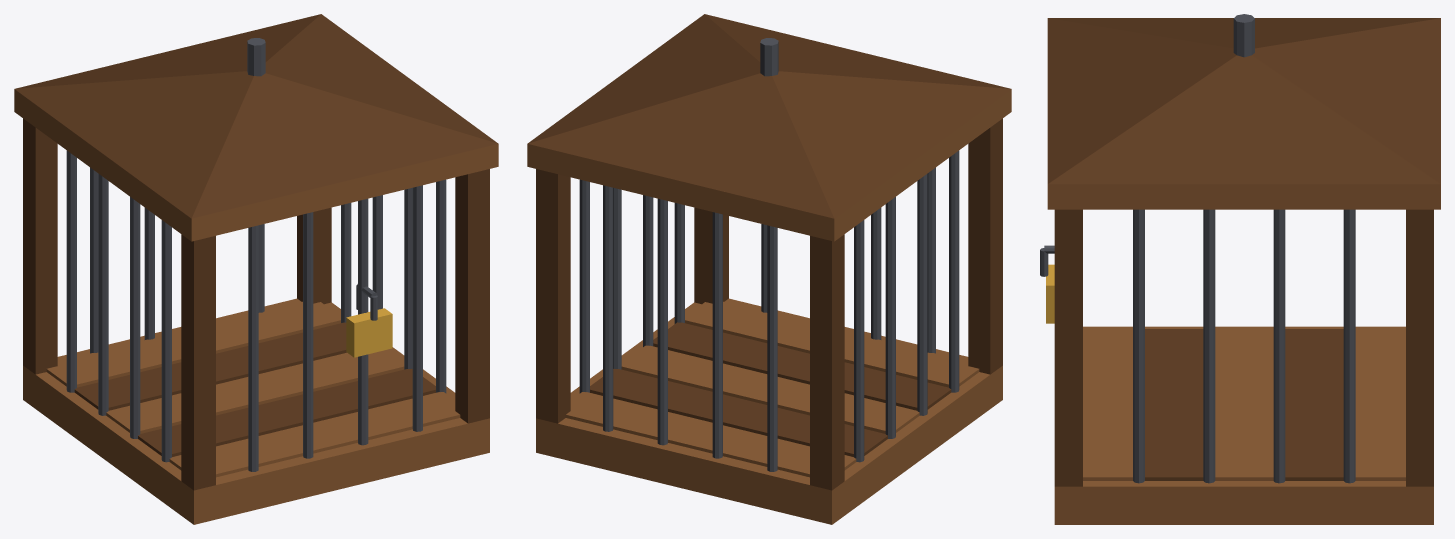
Rendered from cage.glb.
3 renders of one model, left to right at view 1: azimuth 30°, elevation 25°; view 2: azimuth 150°, elevation 25°; view 3: azimuth 270°, elevation 25°, orthographic. The views are drawn at different scales.
Visible parts, largest first — view 1: cage_lid, cage_base, cage_post_3, cage_post_2, cage_post_0, cage_bar_10, cage_bar_11, cage_bar_8, cage_bar_15, cage_bar_12, cage_bar_14, cage_bar_13 (+10 smaller); view 2: cage_lid, cage_base, cage_post_0, cage_post_1, cage_post_3, cage_bar_2, cage_bar_0, cage_bar_1, cage_bar_3, cage_bar_12, cage_bar_15, cage_bar_13 (+9 smaller); view 3: cage_lid, cage_base, cage_post_2, cage_post_1, cage_bar_4, cage_bar_6, cage_bar_5, cage_bar_7, cage_lock.
Part boxes in pixels (<box>): cage_lid: <box>14,14,498,241</box>; cage_base: <box>23,298,489,524</box>; cage_post_3: <box>181,234,215,490</box>; cage_post_2: <box>455,169,489,423</box>; cage_post_0: <box>23,118,57,374</box>; cage_bar_10: <box>303,212,313,458</box>; cage_bar_11: <box>248,225,258,471</box>; cage_bar_8: <box>412,185,422,431</box>; cage_bar_15: <box>66,150,76,392</box>; cage_bar_12: <box>161,220,171,462</box>; cage_bar_14: <box>98,173,108,415</box>; cage_bar_13: <box>130,197,140,438</box>; cage_lid: <box>527,14,1011,241</box>; cage_base: <box>536,298,1002,524</box>; cage_post_0: <box>810,234,844,490</box>; cage_post_1: <box>536,169,570,423</box>; cage_post_3: <box>968,118,1002,374</box>; cage_bar_2: <box>657,198,667,445</box>; cage_bar_0: <box>767,225,777,471</box>; cage_bar_1: <box>712,212,722,458</box>; cage_bar_3: <box>603,185,613,431</box>; cage_bar_12: <box>949,150,959,392</box>; cage_bar_15: <box>854,220,864,462</box>; cage_bar_13: <box>917,173,927,415</box>; cage_lid: <box>1047,14,1440,209</box>; cage_base: <box>1054,326,1433,524</box>; cage_post_2: <box>1054,209,1082,486</box>; cage_post_1: <box>1406,209,1433,486</box>; cage_bar_4: <box>1343,209,1355,483</box>; cage_bar_6: <box>1203,209,1215,483</box>; cage_bar_5: <box>1273,209,1285,483</box>; cage_bar_7: <box>1133,209,1144,483</box>; cage_lock: <box>1040,245,1054,323</box>.
Bounding box in the file's own units: 1.12 × 1.34 × 1.14.
